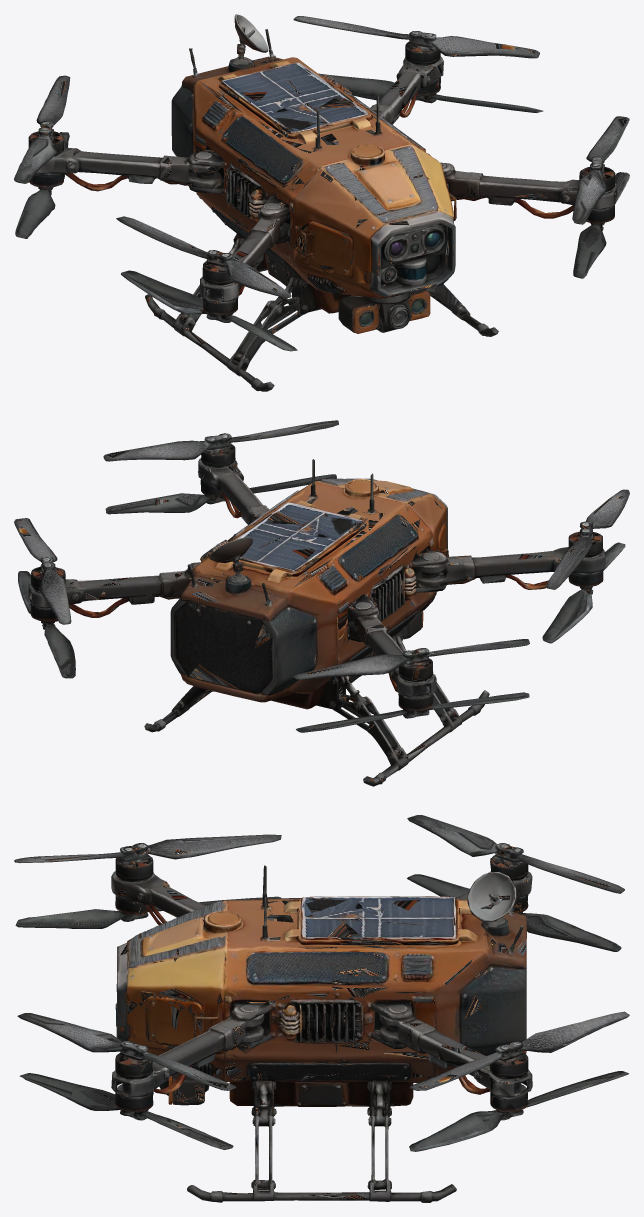
Rendered from drone-new.glb.
3 renders of one model, top to bottom at view 1: azimuth 30°, elevation 25°; view 2: azimuth 150°, elevation 25°; view 3: azimuth 270°, elevation 25°, orthographic. The views are drawn at different scales.
Visible parts, largest first — view 1: tripo_node_e66ccc52-6b67-44dd-aceb-0b93761511f1, rotor_fr_up_mesh, rotor_fl_up_mesh, rotor_bl_up_mesh, rotor_br_up_mesh, rotor_bl_low_mesh, rotor_fl_low_mesh, rotor_fr_low_mesh, rotor_br_low_mesh; view 2: tripo_node_e66ccc52-6b67-44dd-aceb-0b93761511f1, rotor_fl_up_mesh, rotor_br_up_mesh, rotor_bl_up_mesh, rotor_fr_up_mesh, rotor_br_low_mesh, rotor_fl_low_mesh, rotor_bl_low_mesh, rotor_fr_low_mesh; view 3: tripo_node_e66ccc52-6b67-44dd-aceb-0b93761511f1, rotor_fr_up_mesh, rotor_bl_up_mesh, rotor_fl_up_mesh, rotor_br_up_mesh, rotor_br_low_mesh, rotor_fr_low_mesh, rotor_fl_low_mesh, rotor_bl_low_mesh.
Boxes of the visible parts, x1=… form: tripo_node_e66ccc52-6b67-44dd-aceb-0b93761511f1: x1=28, y1=14, x2=617, y2=391; rotor_fr_up_mesh: x1=293, y1=16, x2=539, y2=112; rotor_fl_up_mesh: x1=14, y1=75, x2=215, y2=183; rotor_bl_up_mesh: x1=116, y1=151, x2=291, y2=297; rotor_br_up_mesh: x1=572, y1=116, x2=629, y2=224; rotor_bl_low_mesh: x1=121, y1=250, x2=306, y2=351; rotor_fl_low_mesh: x1=15, y1=132, x2=254, y2=238; rotor_fr_low_mesh: x1=318, y1=73, x2=543, y2=117; rotor_br_low_mesh: x1=454, y1=172, x2=629, y2=278; tripo_node_e66ccc52-6b67-44dd-aceb-0b93761511f1: x1=28, y1=450, x2=605, y2=786; rotor_fl_up_mesh: x1=268, y1=577, x2=529, y2=679; rotor_br_up_mesh: x1=103, y1=420, x2=338, y2=461; rotor_bl_up_mesh: x1=381, y1=489, x2=629, y2=589; rotor_fr_up_mesh: x1=14, y1=518, x2=200, y2=624; rotor_br_low_mesh: x1=105, y1=474, x2=336, y2=518; rotor_fl_low_mesh: x1=296, y1=610, x2=529, y2=732; rotor_bl_low_mesh: x1=447, y1=542, x2=625, y2=643; rotor_fr_low_mesh: x1=18, y1=571, x2=151, y2=678; tripo_node_e66ccc52-6b67-44dd-aceb-0b93761511f1: x1=111, y1=861, x2=532, y2=1202; rotor_fr_up_mesh: x1=391, y1=1011, x2=629, y2=1090; rotor_bl_up_mesh: x1=14, y1=834, x2=281, y2=868; rotor_fl_up_mesh: x1=407, y1=815, x2=624, y2=893; rotor_br_up_mesh: x1=17, y1=1013, x2=236, y2=1090; rotor_br_low_mesh: x1=19, y1=1031, x2=307, y2=1149; rotor_fr_low_mesh: x1=333, y1=1041, x2=628, y2=1151; rotor_fl_low_mesh: x1=407, y1=874, x2=621, y2=951; rotor_bl_low_mesh: x1=15, y1=896, x2=280, y2=928.
Size of the model in its own units: 0.9811 by 0.4456 by 0.9251.
1 material, 1 textured.
